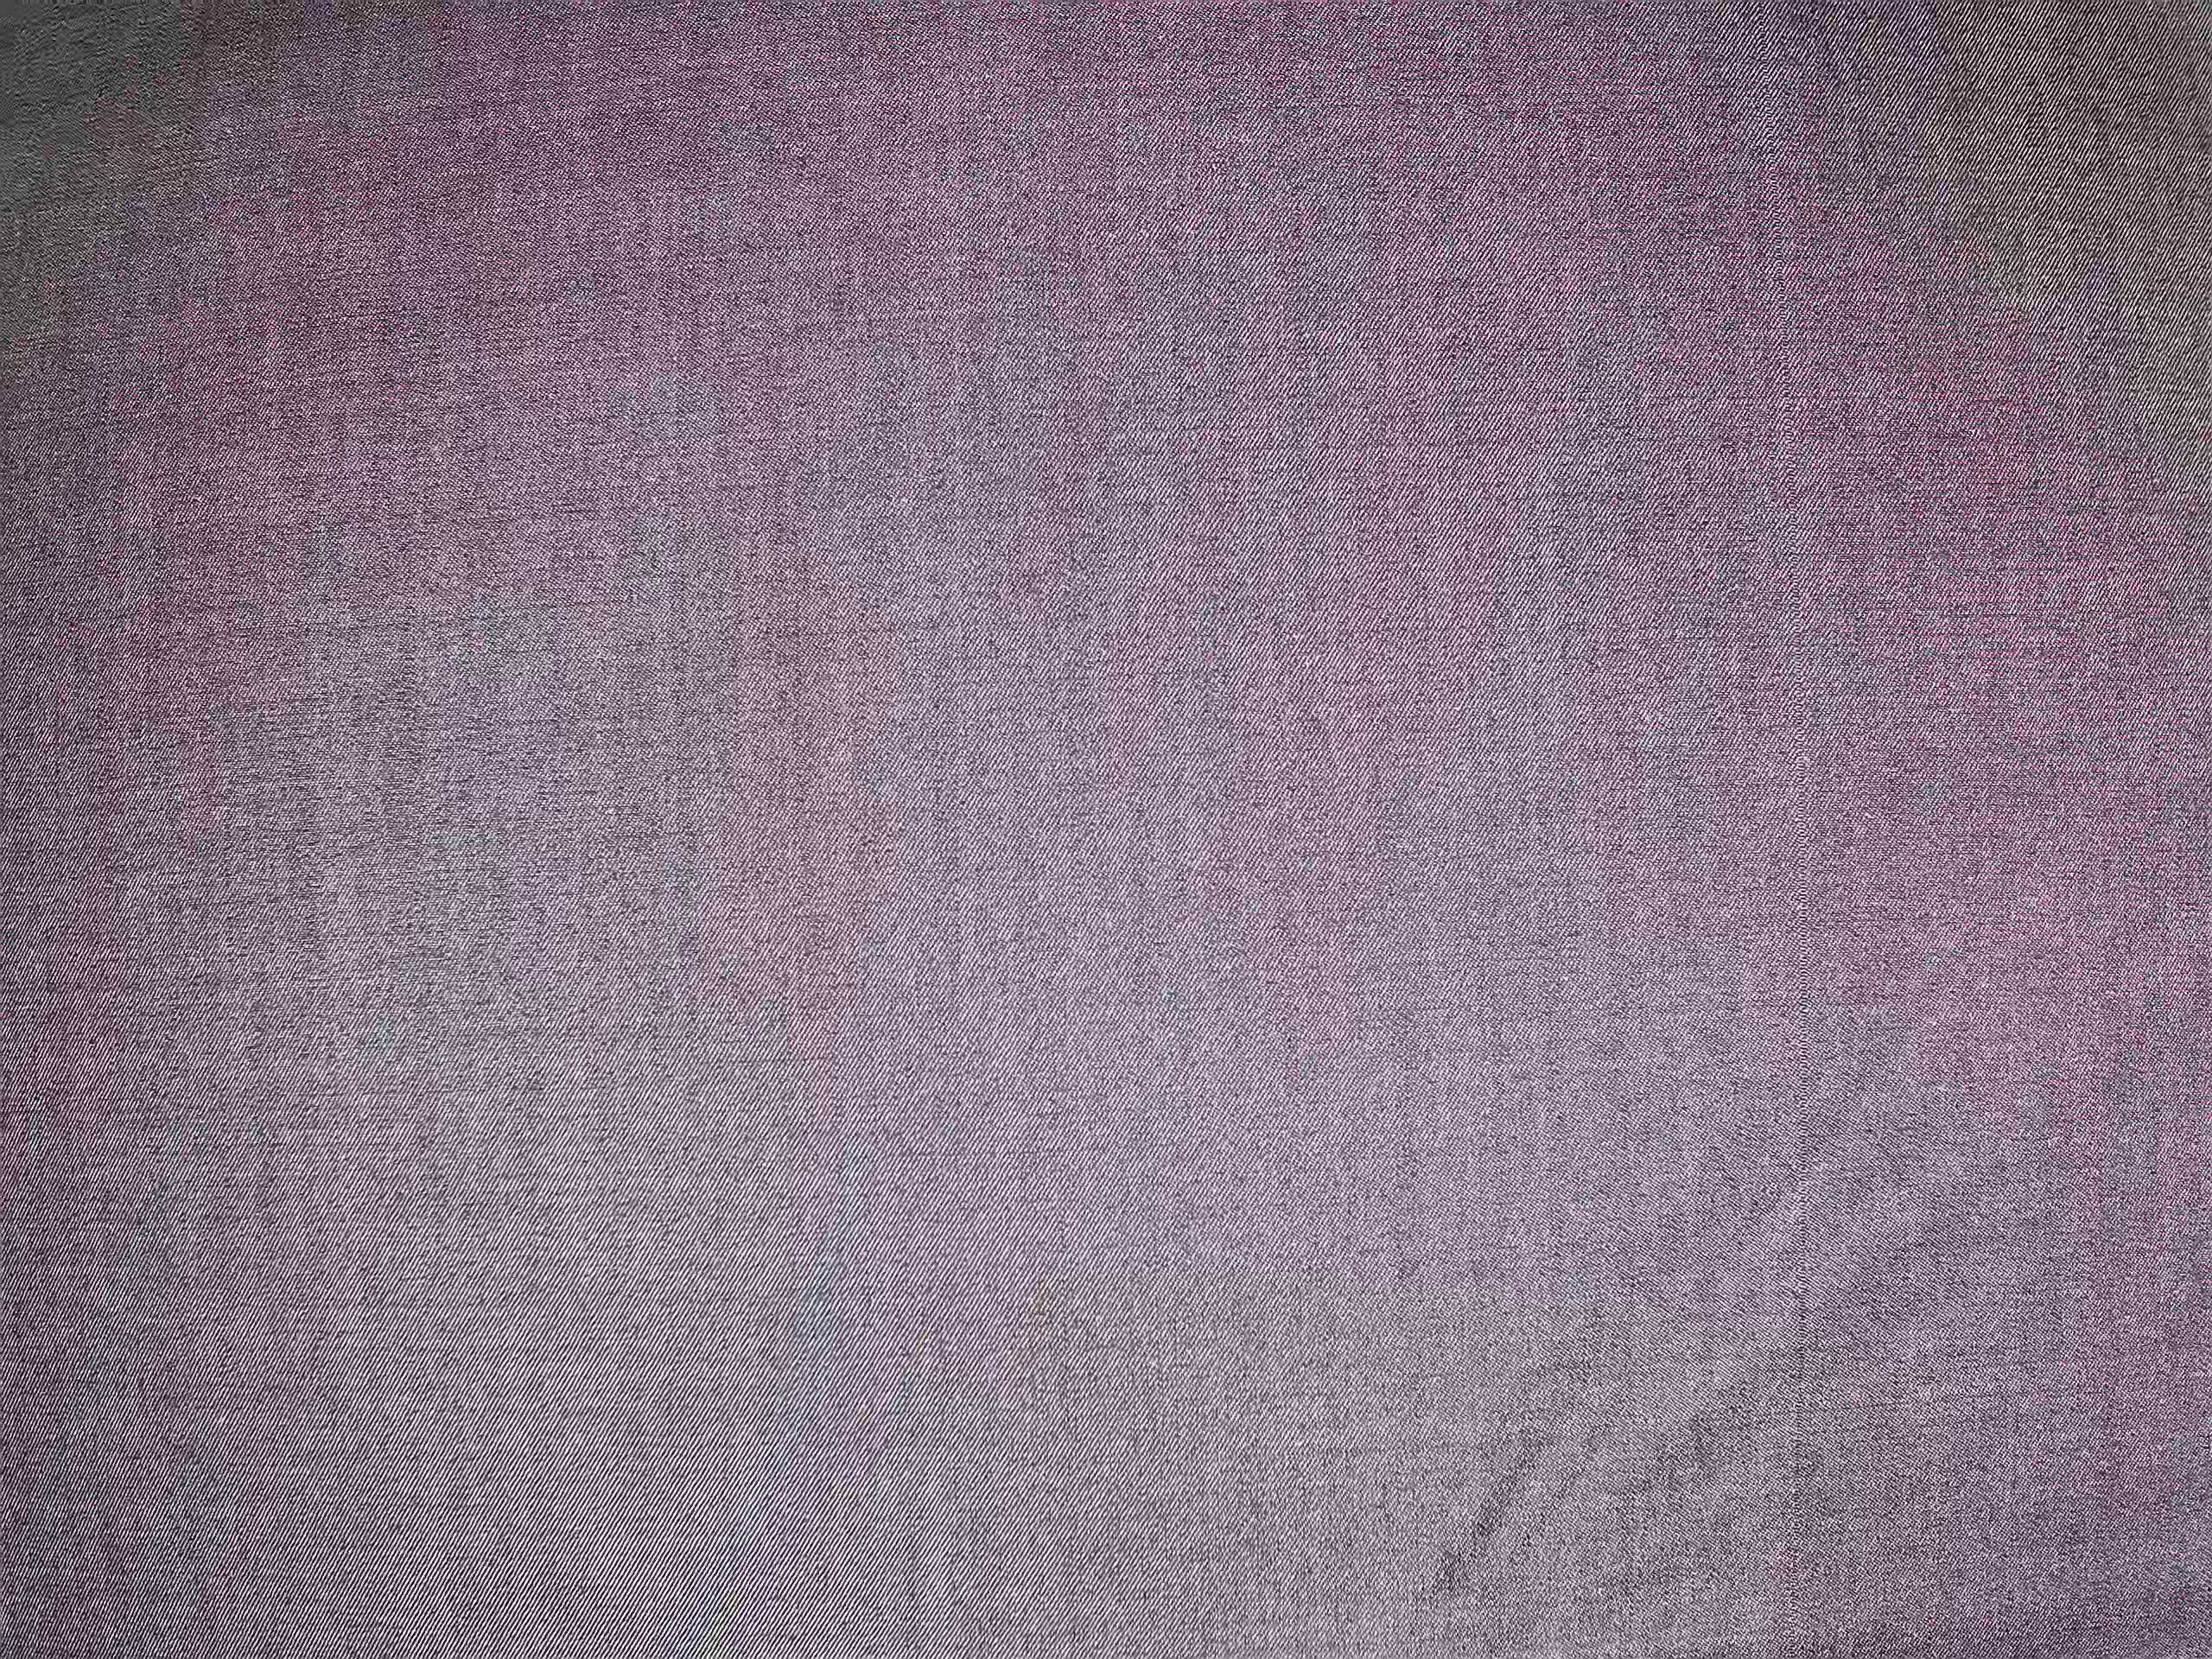lacking-warp: (1747, 7, 1820, 1652)
